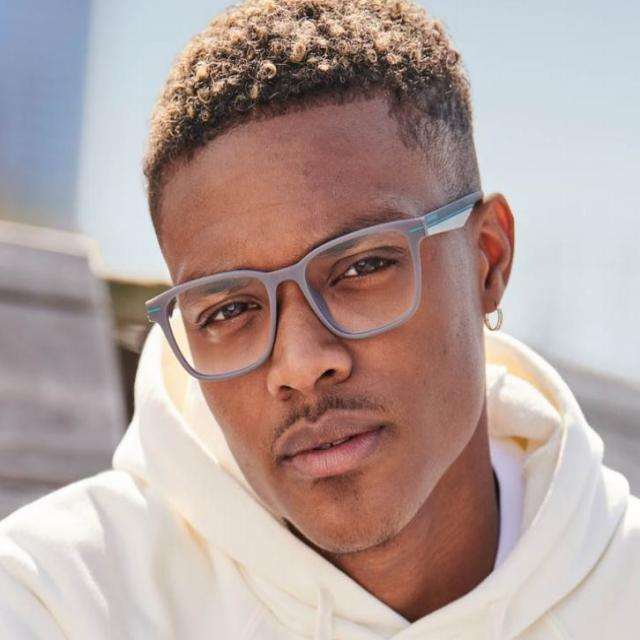Glasses: (143, 185, 478, 386)
